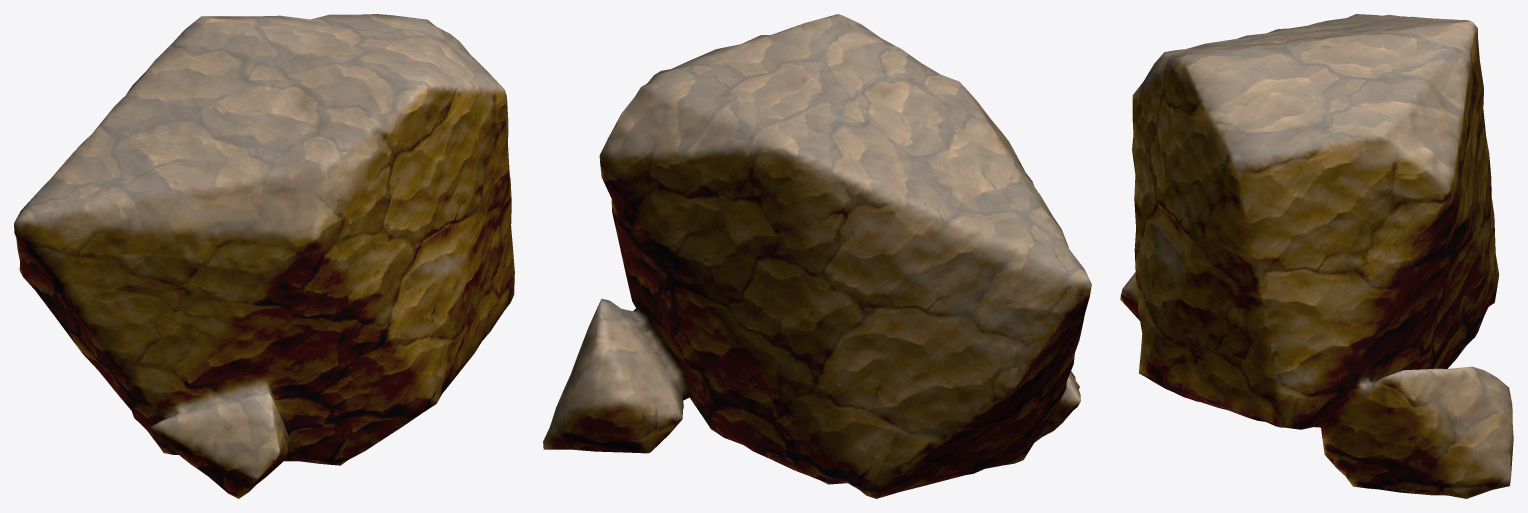
Rendered from boulder_round_c.glb.
3 renders of one model, left to right at view 1: azimuth 30°, elevation 25°; view 2: azimuth 150°, elevation 25°; view 3: azimuth 270°, elevation 25°, orthographic. The views are drawn at different scales.
Visible parts, largest first — view 1: rock; view 2: rock; view 3: rock.
Part boxes in pixels (box(x1,y1,x2,y2)): rock: box(14, 14, 514, 498); rock: box(543, 14, 1091, 498); rock: box(1120, 14, 1513, 498).
Size of the model in its own units: 1.3 by 0.963 by 0.8962.
1 material, 1 textured.
